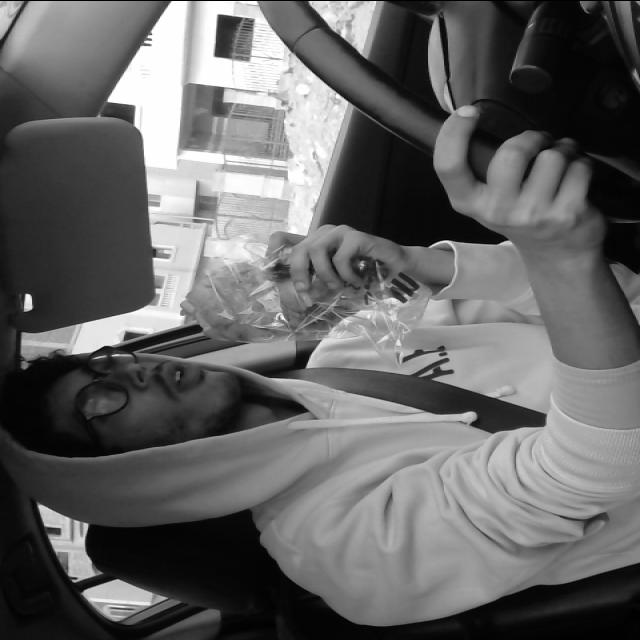eating: (172, 255, 332, 344)
